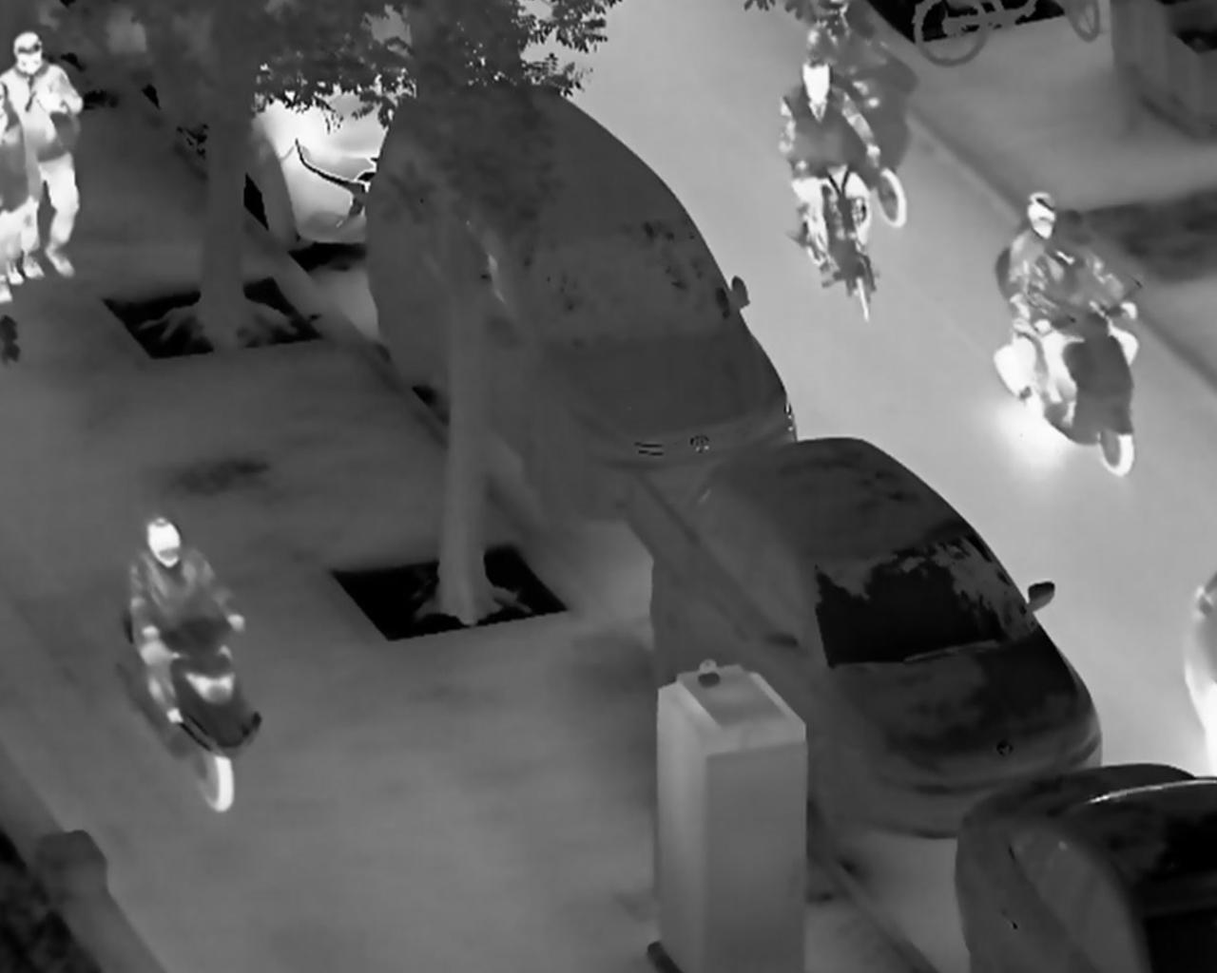person: (1025, 208, 1143, 438), (125, 517, 248, 730), (778, 57, 880, 271)
